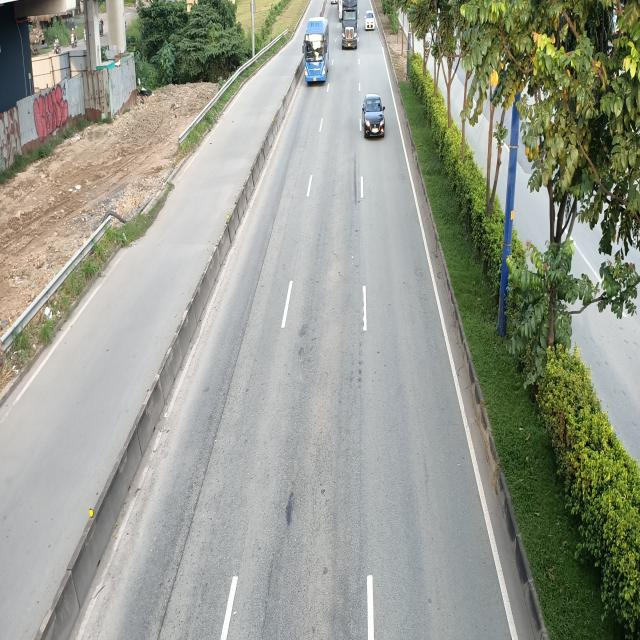car: (363, 92, 387, 139), (364, 9, 375, 30)
coach: (302, 15, 331, 83)
container: (342, 0, 361, 51)
